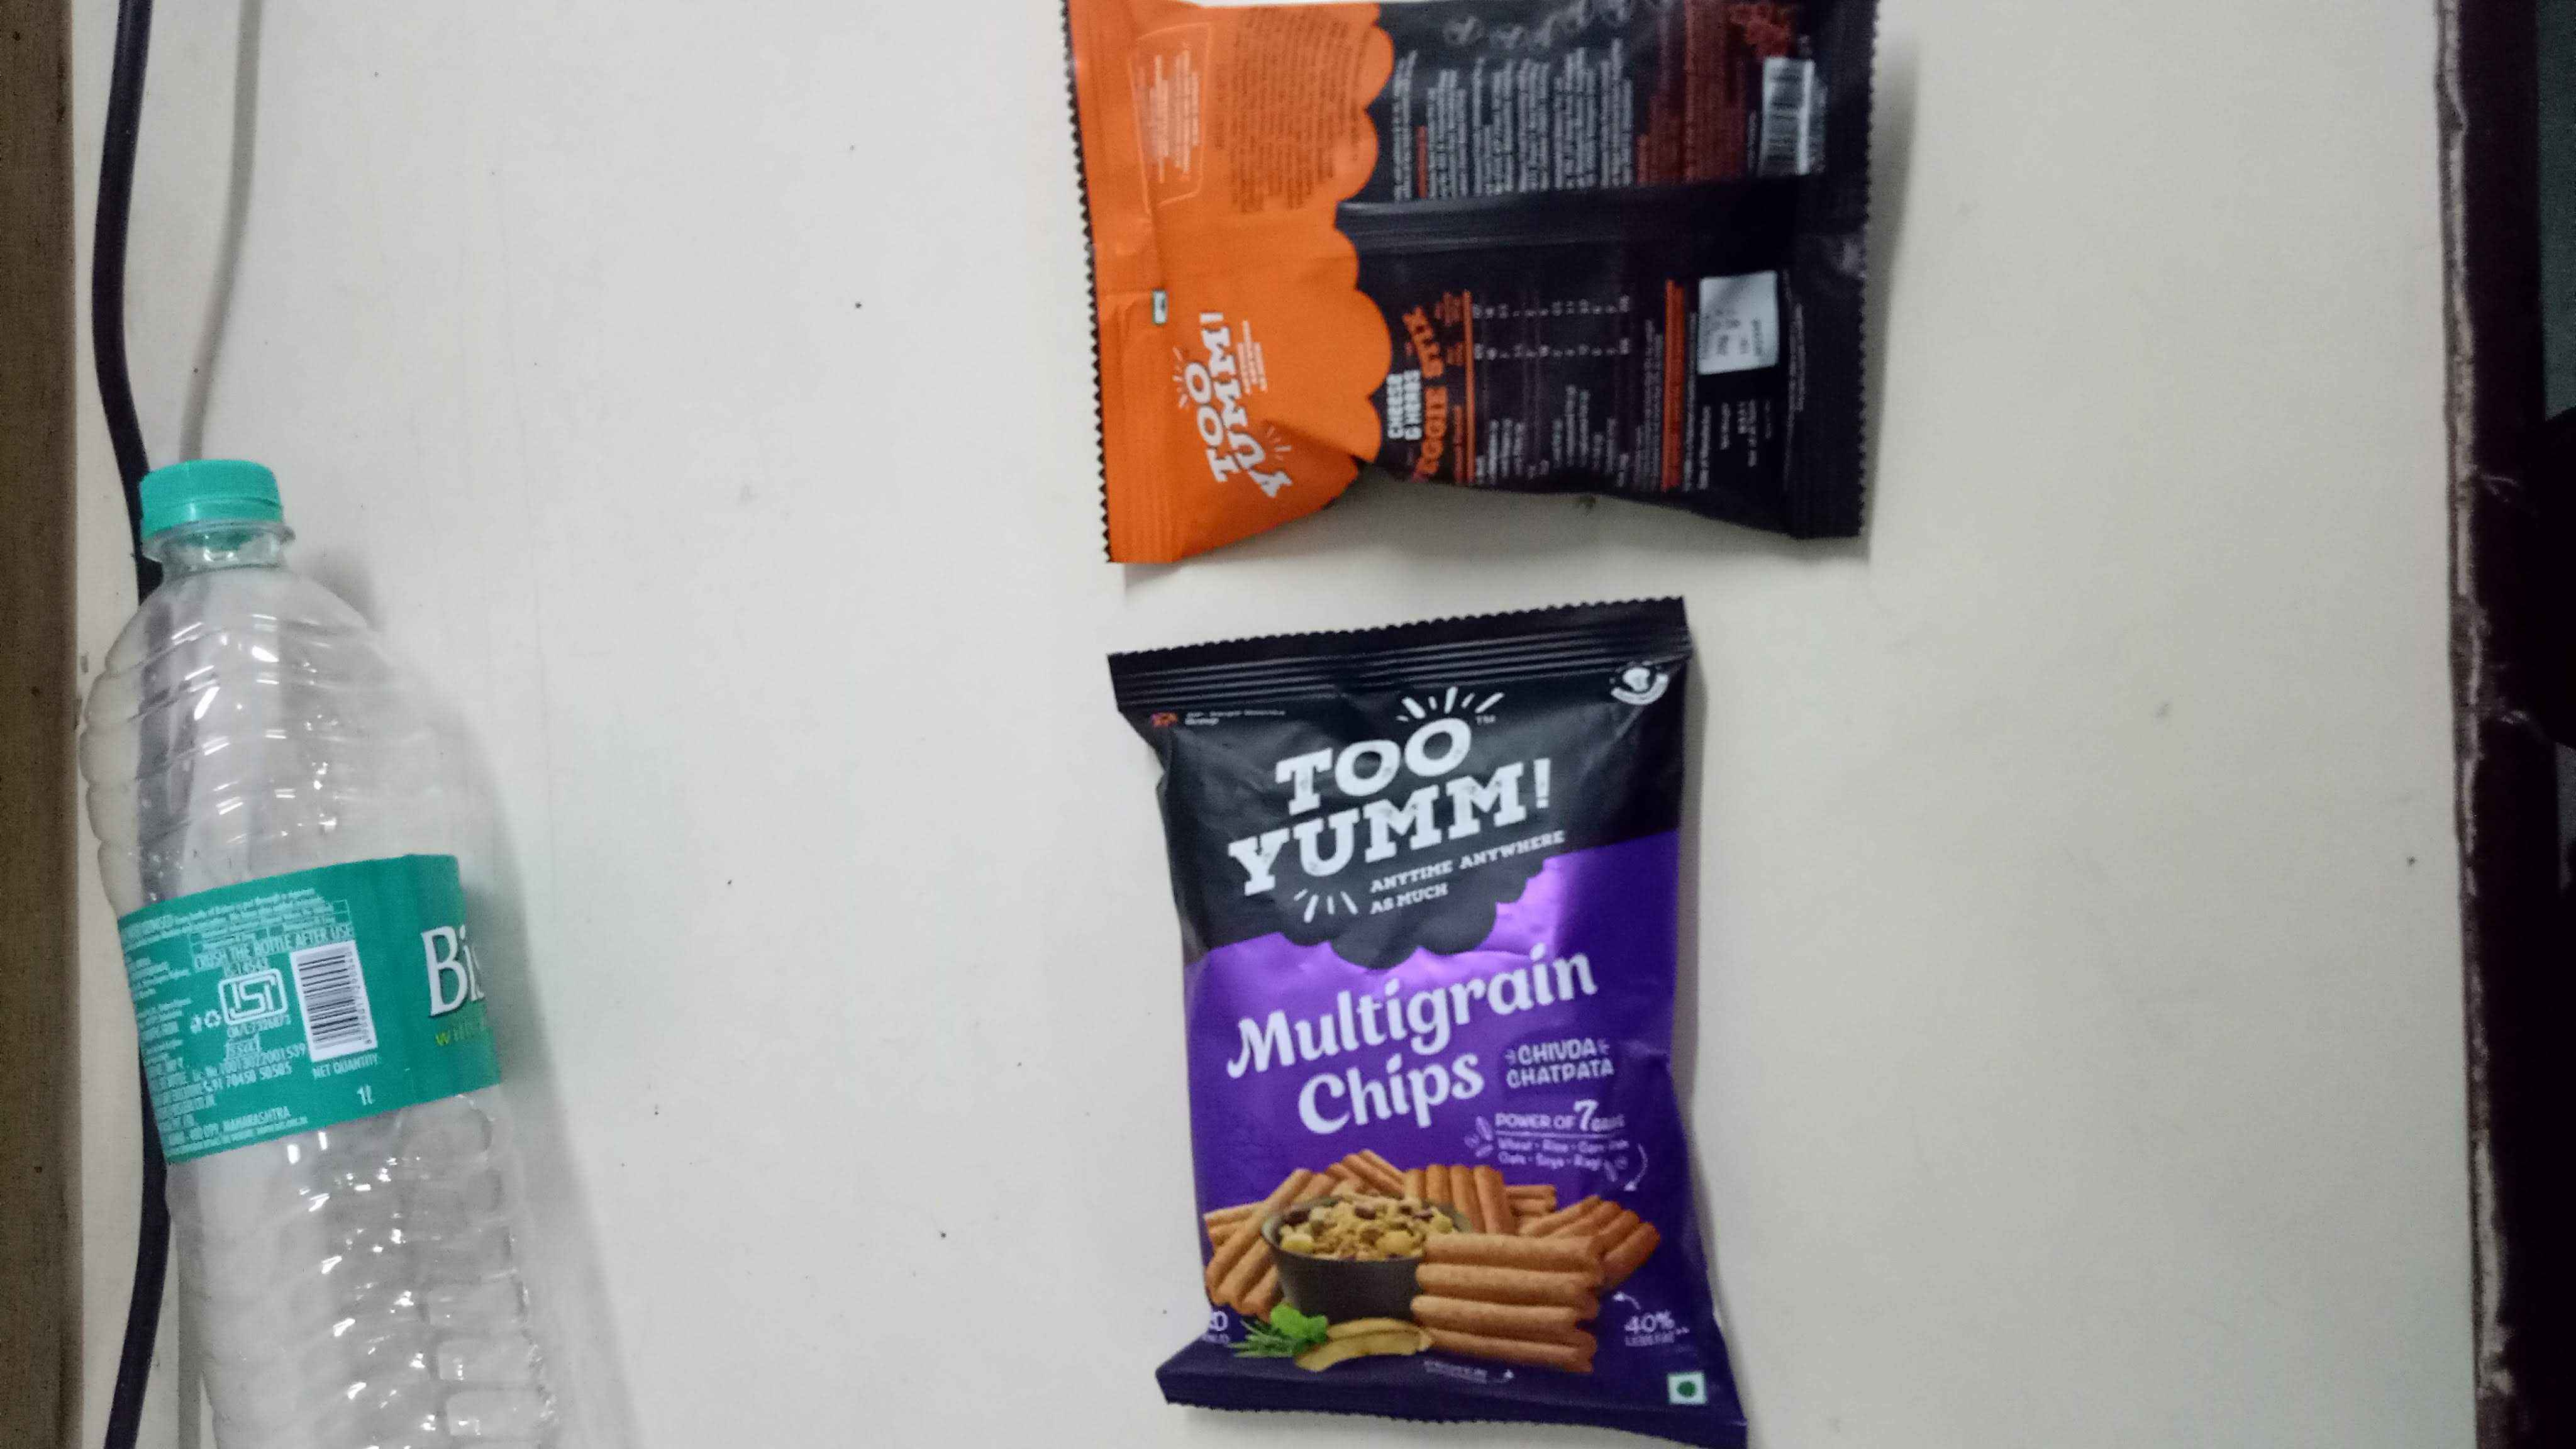Bisleri: (143, 885, 510, 1143)
tooyumm: (1210, 711, 1575, 911), (1168, 297, 1318, 510)
